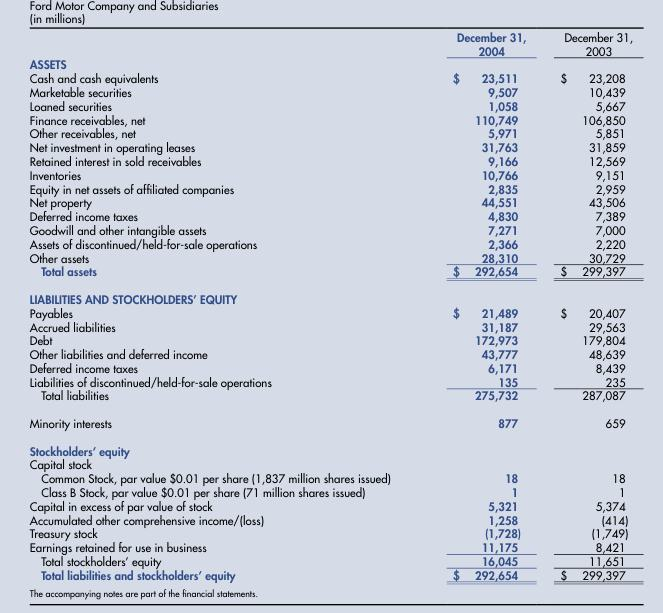table: (28, 29, 632, 581)
table column: (28, 29, 420, 581), (420, 29, 542, 581), (542, 29, 632, 581)
table column header: (28, 29, 632, 57)
table projected row header: (28, 284, 632, 305), (28, 436, 632, 457), (28, 57, 632, 71), (28, 457, 632, 471)
table row: (28, 29, 632, 57), (28, 409, 632, 436), (28, 284, 632, 305), (28, 388, 632, 409), (28, 436, 632, 457), (28, 264, 632, 284), (28, 57, 632, 71), (28, 84, 632, 98), (28, 98, 632, 112), (28, 112, 632, 126), (28, 126, 632, 140), (28, 153, 632, 167), (28, 167, 632, 181), (28, 181, 632, 195), (28, 195, 632, 209), (28, 222, 632, 236), (28, 236, 632, 250), (28, 250, 632, 264), (28, 305, 632, 319), (28, 319, 632, 333), (28, 333, 632, 347), (28, 360, 632, 374), (28, 374, 632, 388), (28, 457, 632, 471), (28, 484, 632, 498), (28, 498, 632, 512), (28, 512, 632, 526), (28, 526, 632, 540), (28, 553, 632, 567), (28, 567, 632, 581), (28, 71, 632, 84), (28, 140, 632, 153), (28, 209, 632, 222), (28, 347, 632, 360), (28, 471, 632, 484), (28, 540, 632, 553)
